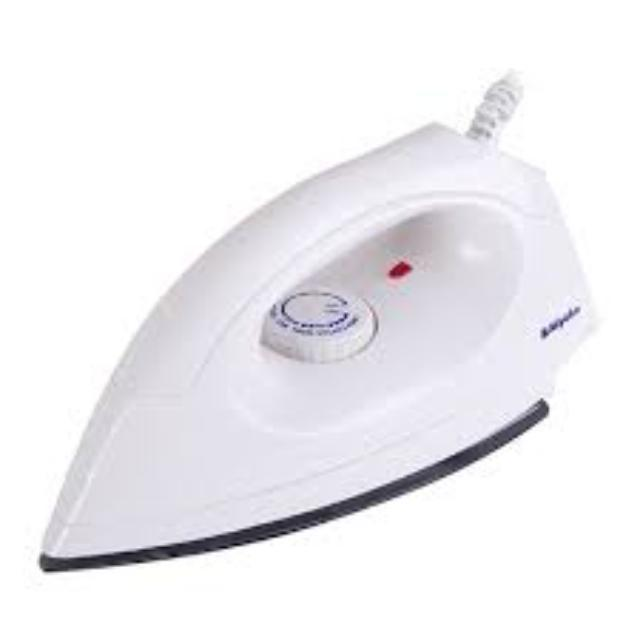Clothes-Iron: (109, 82, 587, 534)
